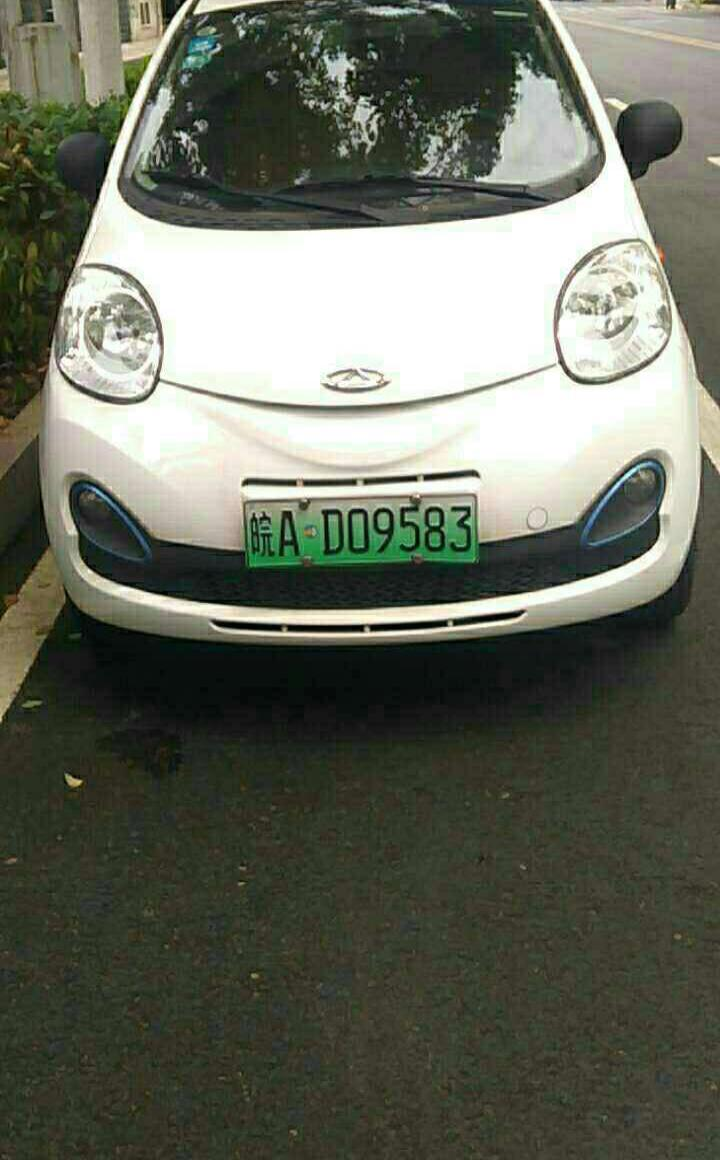car: (237, 492, 488, 572)
